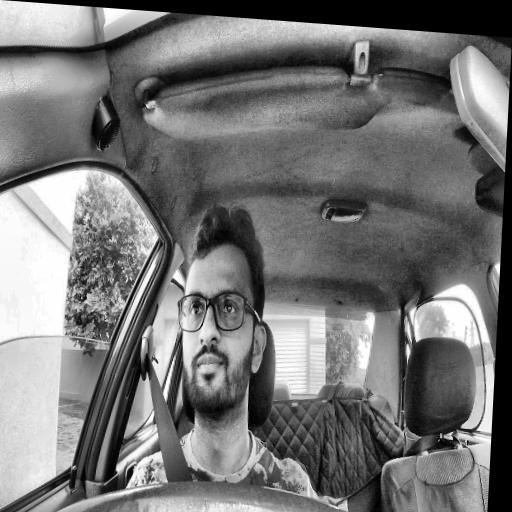awake: (171, 203, 273, 423)
